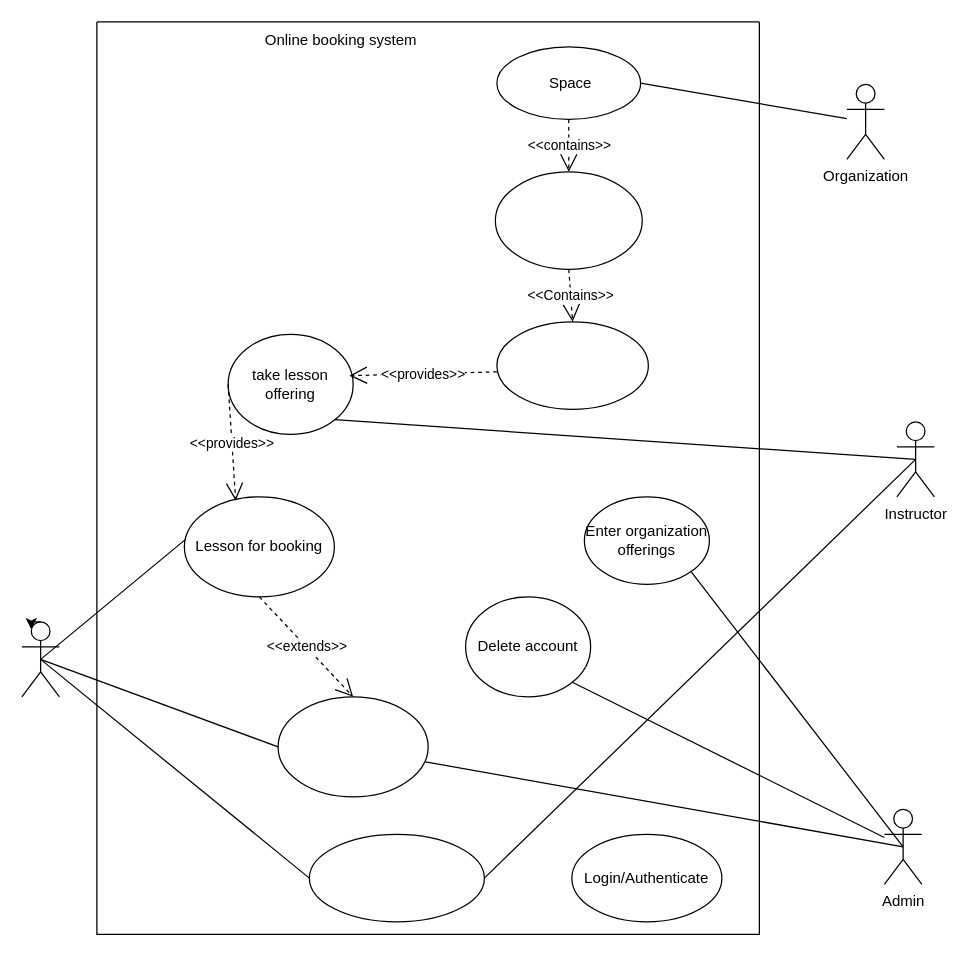
Some shapes in this 969 by 956 pixel diagram are drawn without their labels. The centre of each missing label's shape, as x and y in pixels:
"Available schedule (day-time)" goes at pixel 568 220.
"Client" goes at pixel 40 659.
"Lesson" goes at pixel 572 365.
"read booking detail" goes at pixel 352 746.
"Register" goes at pixel 396 877.
